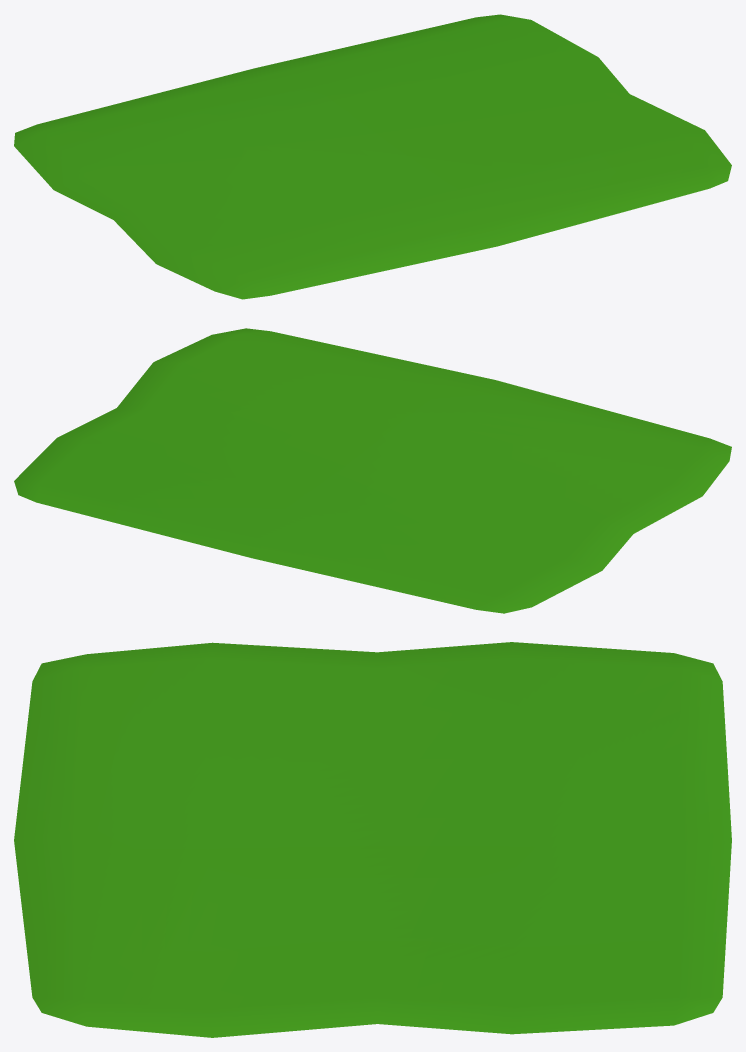
Rendered from hillcover_model.glb.
3 views of the same model, one above another, from view 1: azimuth 30°, elevation 25°; view 2: azimuth 150°, elevation 25°; view 3: azimuth 270°, elevation 25° (orthographic). The views are drawn at different scales.
Parts seen in each view (by area): view 1: hillCover_t10; view 2: hillCover_t10; view 3: hillCover_t10.
Part boxes in pixels (x1=…): hillCover_t10: x1=14, y1=14, x2=731, y2=299; hillCover_t10: x1=14, y1=328, x2=731, y2=613; hillCover_t10: x1=14, y1=642, x2=731, y2=1037.
Size of the model in its own units: 48.54 by 0.4515 by 37.2.
Materials: 1 (1 with a texture image).
